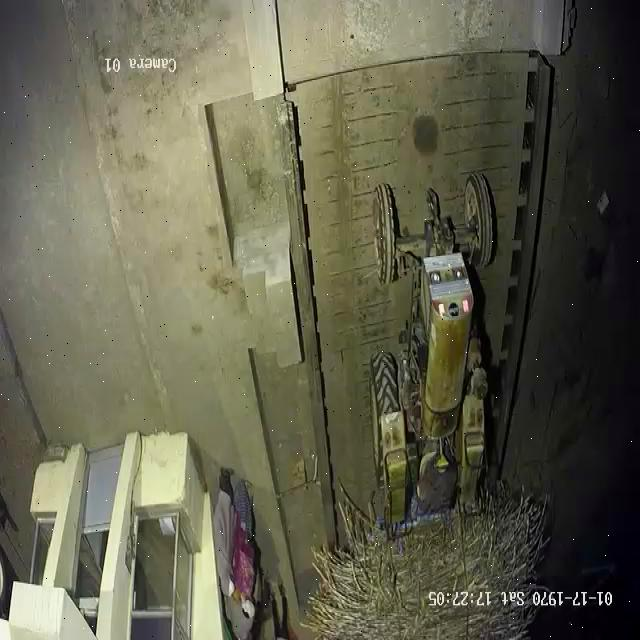Tratores - v5 YOLO V8L 2024-11-13: (372, 176, 497, 508)
